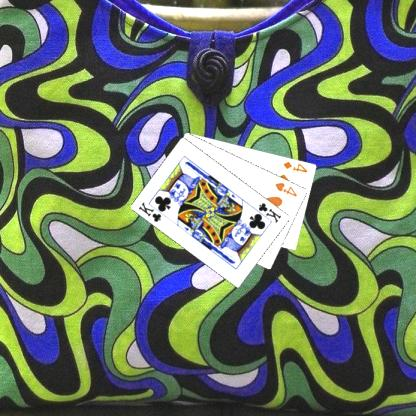4D: (280, 158, 308, 174)
4H: (272, 180, 298, 198)
KC: (136, 199, 169, 224), (250, 200, 283, 224)
